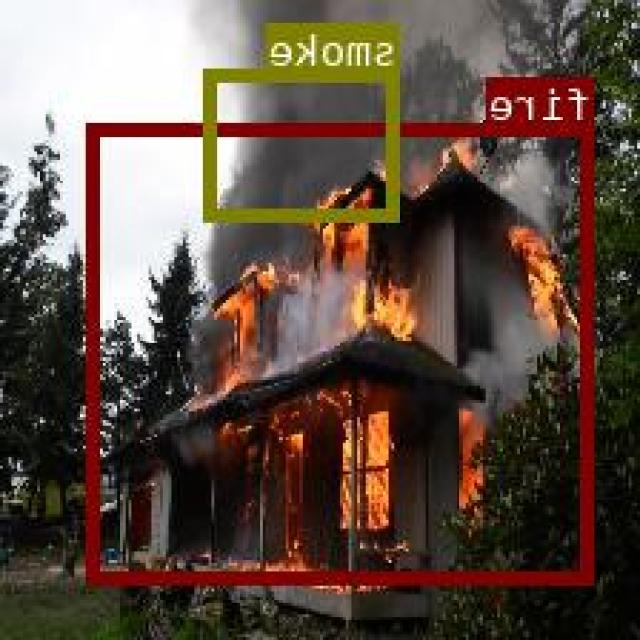fire: (91, 122, 596, 582)
smoke: (208, 66, 401, 218)
